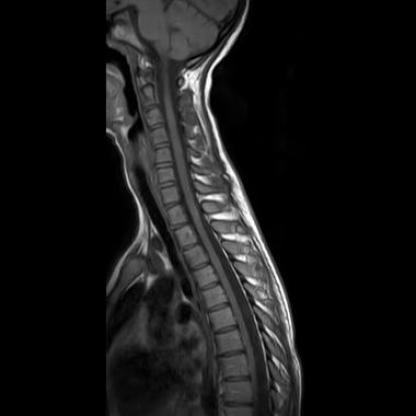Disc Bulgerotation: (153, 140, 170, 152)
